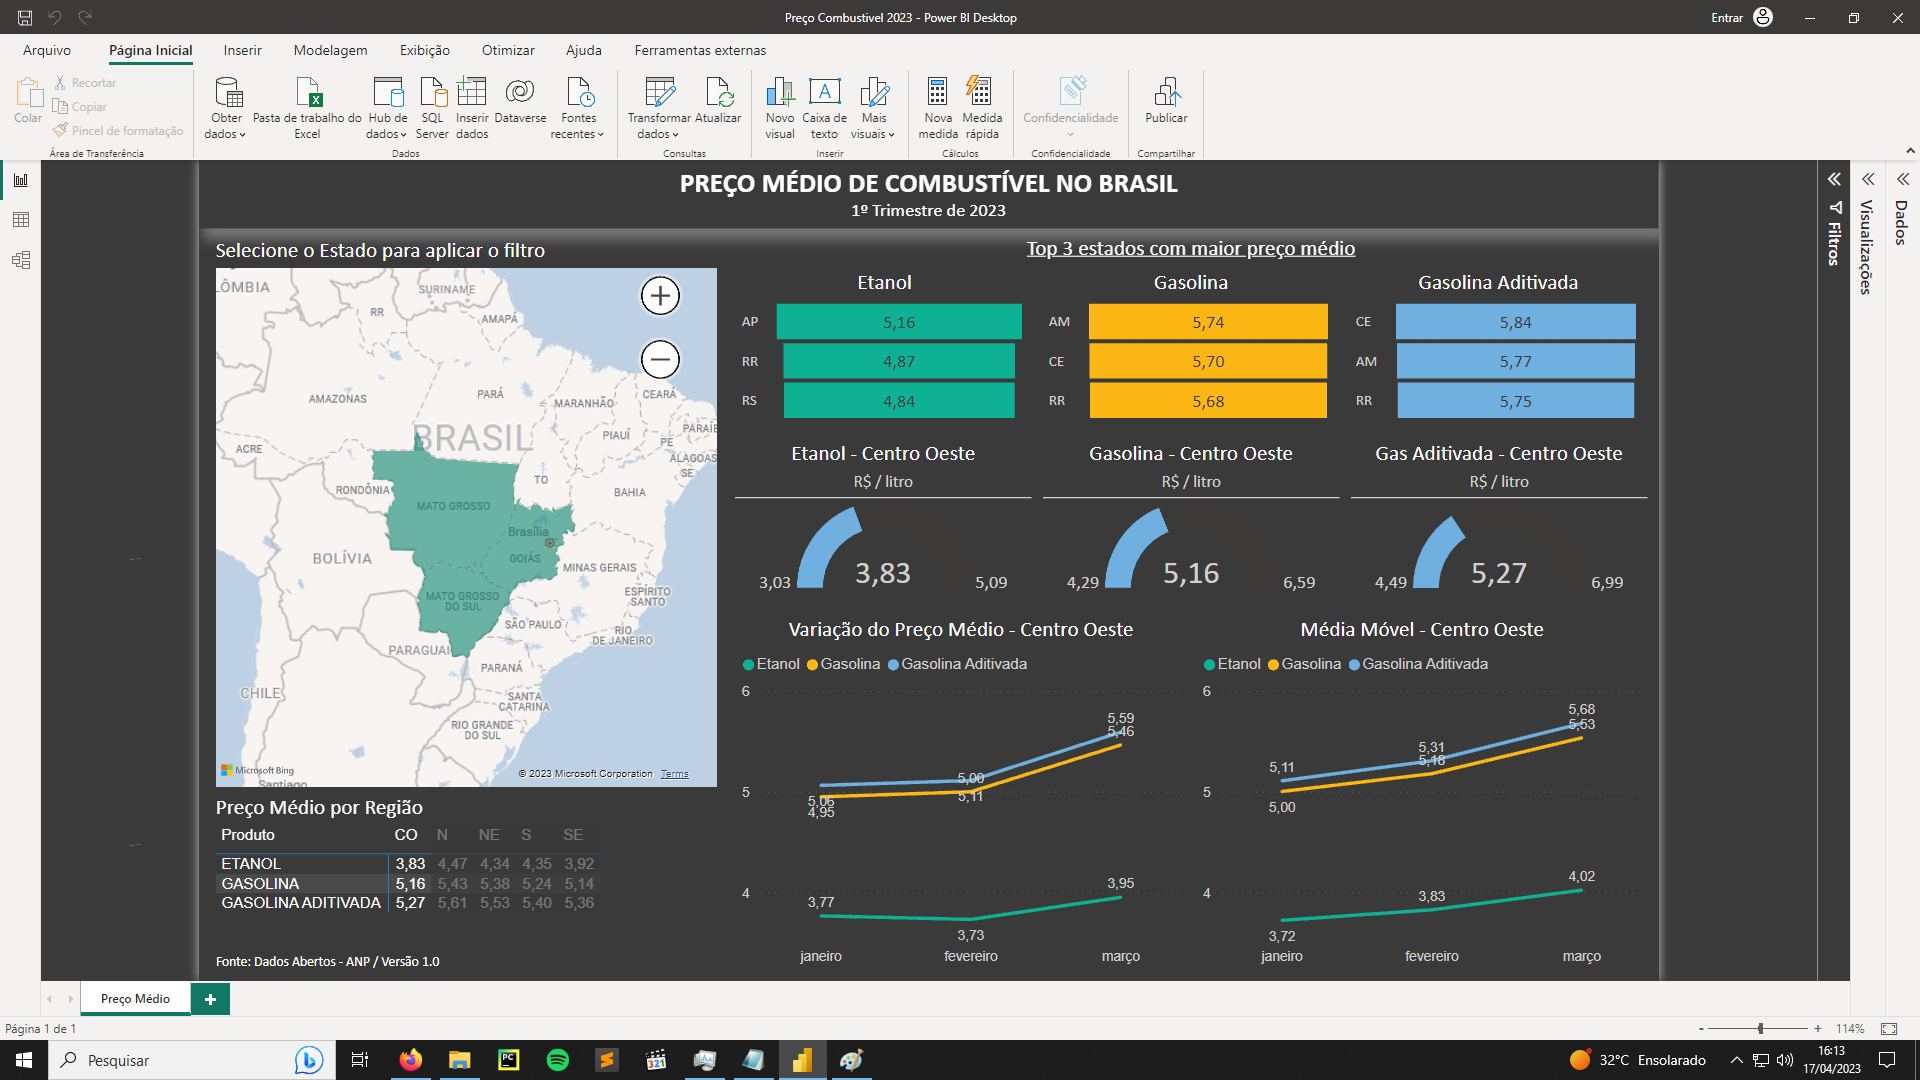

What the dashboard file says about the page in this screenshot:
{"tool":"powerbi","page":{"name":"Preço Médio","canvas":[1280,720],"ordinal":0},"visuals":[{"type":"lineChart","fields":{"Category":["preco_tratado.Data_Coleta.Variation.Hierarquia de datas.Mês","preco_tratado.Data_Coleta.Variation.Hierarquia de datas.Dia"],"Y":["Medidas.MediaNacEtanol","Medidas.MediaNacGasComum","Medidas.MediaNacGasAdit"]},"box":[470.9,395,395,320],"z":0},{"type":"lineChart","fields":{"Y":["Medidas.Média móvel de MediaNacEtanol","Medidas.Média móvel de MediaNacGasComum","Medidas.Média móvel de MediaNacGasAdit"],"Category":["preco_tratado.Data_Coleta.Variation.Hierarquia de datas.Mês","preco_tratado.Data_Coleta.Variation.Hierarquia de datas.Dia"]},"box":[874.9,395,395.1,320],"z":1000},{"type":"filledMap","title":"Selecione o Estado para aplicar o filtro","fields":{"Category":["preco_tratado.Estado"]},"box":[10,65,450,490],"z":2000},{"type":"pivotTable","fields":{"Rows":["preco_tratado.Produto"],"Columns":["preco_tratado.Regiao"],"Values":["Medidas.MediaValorVenda"]},"box":[10,554.7,450,123.7],"z":3000},{"type":"funnel","title":"Gasolina ","fields":{"Category":["TOPMediaGas.Estado"],"Y":["Avg(TOPMediaGas.GAS)"]},"box":[740.2,95,260,140.1],"z":4000},{"type":"textbox","box":[0,0,1280,60],"z":5000},{"type":"funnel","title":"Gasolina Aditivada","fields":{"Category":["TOPMediaGasAdit.Estado"],"Y":["Avg(TOPMediaGasAdit.GAS_ADIT)"]},"box":[1009.6,95,260.7,140.1],"z":6000},{"type":"funnel","title":"Etanol","fields":{"Category":["TOPMediaEtanol.Estado"],"Y":["Avg(TOPMediaEtanol.ETANOL)"]},"box":[470.8,95,260.7,140.1],"z":7000},{"type":"textbox","title":"Top 3 estados com maior preço médio","box":[470.2,65,800.1,30],"z":8000},{"type":"textbox","box":[10,690,225.5,25.9],"z":9000},{"type":"textbox","box":[470,245.1,260,52],"z":10000},{"type":"gauge","fields":{"Y":["Medidas.MediaNacEtanol"],"MinValue":["Medidas.MinMediaNacEtanol"],"MaxValue":["Medidas.MaxMediaNacEtanol"]},"box":[470,297.6,259.7,87.5],"z":11000},{"type":"textbox","box":[740,245,260,52],"z":12000},{"type":"gauge","fields":{"Y":["Medidas.MediaNacGasComum"],"MinValue":["Medidas.MinMediaNacGas"],"MaxValue":["Medidas.MaxMediaNacGas"]},"box":[740,297,259.7,87.5],"z":13000},{"type":"textbox","box":[1010.7,245,260,52],"z":14000},{"type":"gauge","fields":{"Y":["Medidas.MediaNacGasAdit"],"MinValue":["Medidas.MinMediaNacGasAdt"],"MaxValue":["Medidas.MaxMediaNacGasAdt"]},"box":[1010.7,297,259.7,87.5],"z":15000}]}

Visuals, with their boxes on the page's 1280x720 design canvas (x1, y1, x2, y2). These are canvas units, not pixel positions in the 1920x1080 screenshot, which may show the page scaled, cropped or inside an application window:
lineChart - preco_tratado.Data_Coleta.Variation.Hierarquia de datas.Mês x preco_tratado.Data_Coleta.Variation.Hierarquia de datas.Dia: [x1=471, y1=395, x2=866, y2=715]
lineChart - Medidas.Média móvel de MediaNacEtanol x Medidas.Média móvel de MediaNacGasComum: [x1=875, y1=395, x2=1270, y2=715]
"Selecione o Estado para aplicar o filtro" filledMap: [x1=10, y1=65, x2=460, y2=555]
pivotTable - preco_tratado.Produto x preco_tratado.Regiao: [x1=10, y1=555, x2=460, y2=678]
"Gasolina " funnel: [x1=740, y1=95, x2=1000, y2=235]
textbox: [x1=0, y1=0, x2=1280, y2=60]
"Gasolina Aditivada" funnel: [x1=1010, y1=95, x2=1270, y2=235]
"Etanol" funnel: [x1=471, y1=95, x2=732, y2=235]
"Top 3 estados com maior preço médio" textbox: [x1=470, y1=65, x2=1270, y2=95]
textbox: [x1=10, y1=690, x2=236, y2=716]
textbox: [x1=470, y1=245, x2=730, y2=297]
gauge - Medidas.MediaNacEtanol x Medidas.MinMediaNacEtanol: [x1=470, y1=298, x2=730, y2=385]
textbox: [x1=740, y1=245, x2=1000, y2=297]
gauge - Medidas.MediaNacGasComum x Medidas.MinMediaNacGas: [x1=740, y1=297, x2=1000, y2=384]
textbox: [x1=1011, y1=245, x2=1271, y2=297]
gauge - Medidas.MediaNacGasAdit x Medidas.MinMediaNacGasAdt: [x1=1011, y1=297, x2=1270, y2=384]
